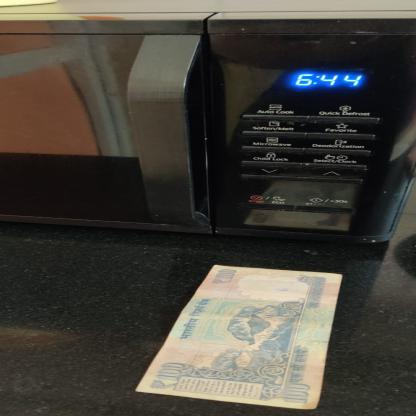Old100Back: (135, 264, 344, 410)
